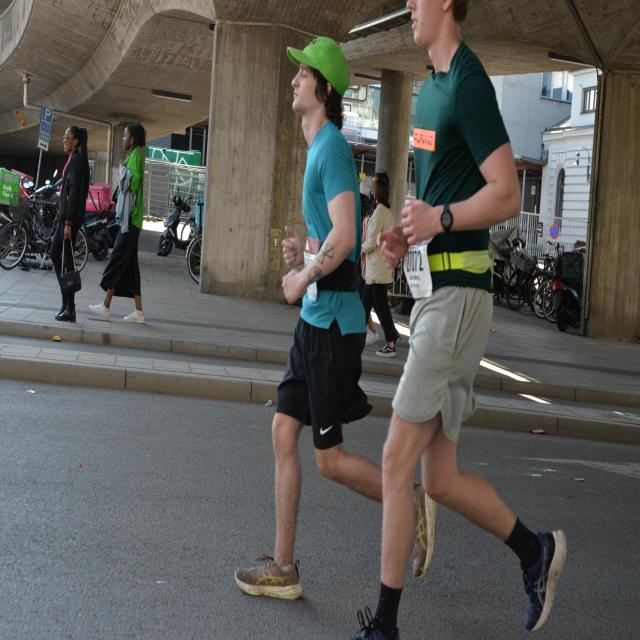runner-detect: (378, 7, 563, 630), (234, 25, 380, 608)
